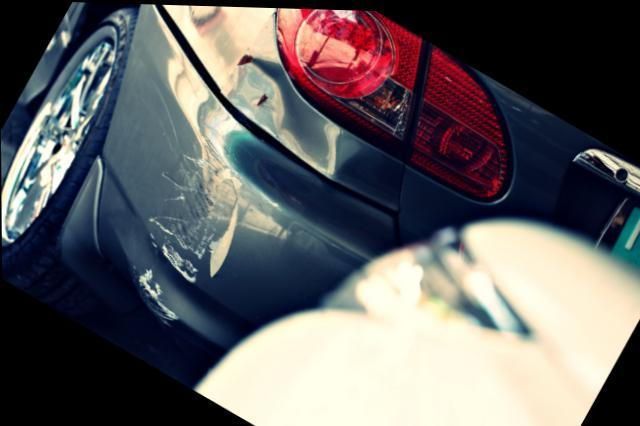dent: (226, 59, 340, 175)
scratch: (127, 136, 280, 325)
